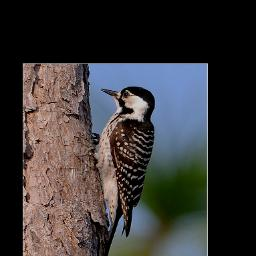Woodpecker: (87, 81, 159, 256)
